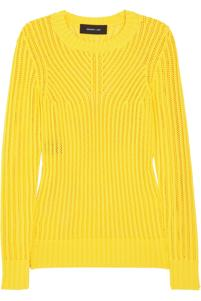S_cardigan sweater: (5, 13, 201, 296)
